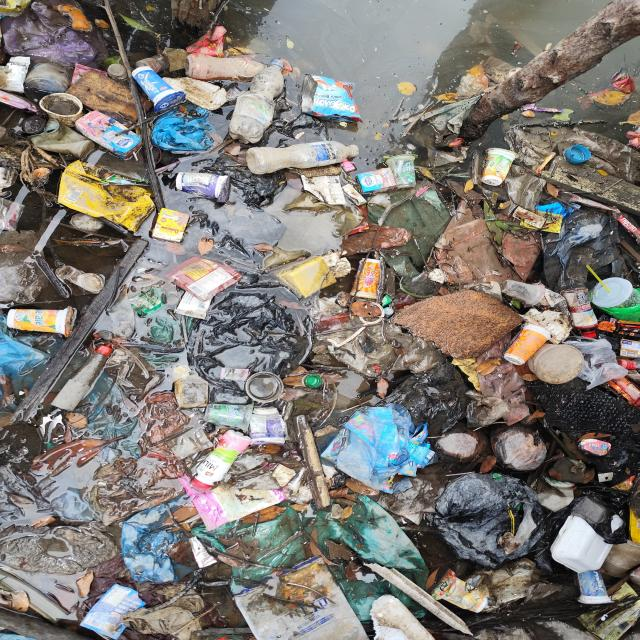Botol Plastik: (230, 58, 288, 145), (54, 342, 118, 414), (247, 140, 361, 175), (189, 431, 252, 494), (185, 52, 272, 85), (560, 287, 608, 343), (300, 373, 325, 391)
Bungkus Makanan: (549, 513, 615, 575), (300, 74, 365, 126), (615, 210, 640, 244), (578, 437, 614, 459)
Bungkus Minuman: (80, 583, 147, 640), (168, 257, 244, 301), (27, 120, 96, 162), (132, 67, 190, 113), (433, 570, 490, 614), (503, 323, 555, 367), (7, 308, 83, 337), (175, 172, 231, 205), (248, 406, 289, 450), (482, 145, 518, 192), (203, 404, 256, 435), (350, 258, 387, 301), (576, 569, 616, 607), (384, 154, 423, 190), (503, 280, 548, 307), (3, 56, 33, 95)
Kantong Plastik: (223, 495, 428, 607), (183, 297, 309, 382), (436, 476, 548, 567), (112, 501, 208, 585), (383, 364, 471, 440), (555, 213, 627, 281), (152, 107, 218, 156)
